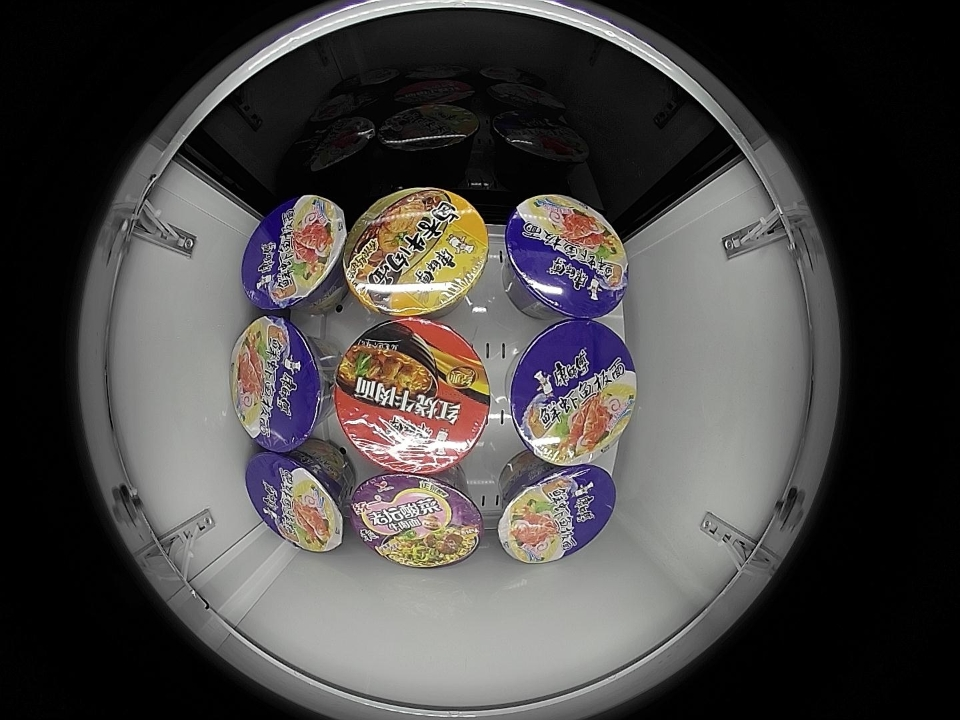hongshaoniurou: (333, 319, 492, 473)
laotansuancai: (349, 472, 486, 570)
luxiangniurou: (343, 187, 489, 318)
xianxiayuban: (508, 320, 638, 465), (503, 195, 629, 319), (231, 315, 328, 452), (241, 194, 346, 311), (498, 463, 616, 564), (246, 450, 348, 553)
